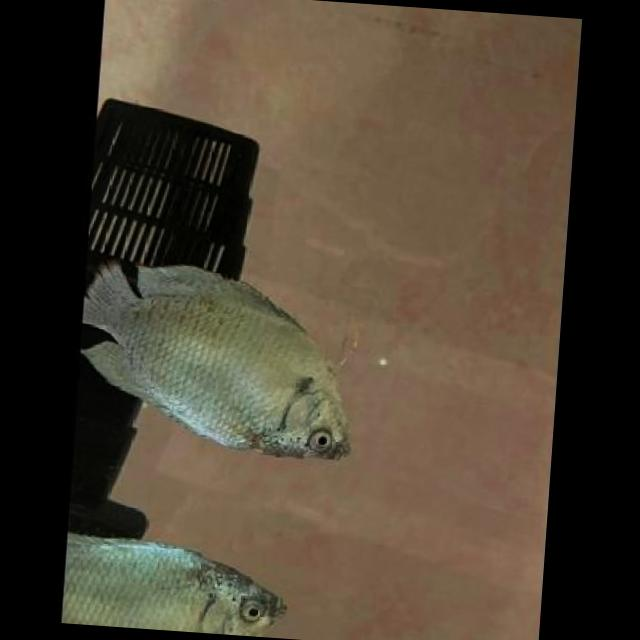Gourami: (70, 253, 369, 475)
